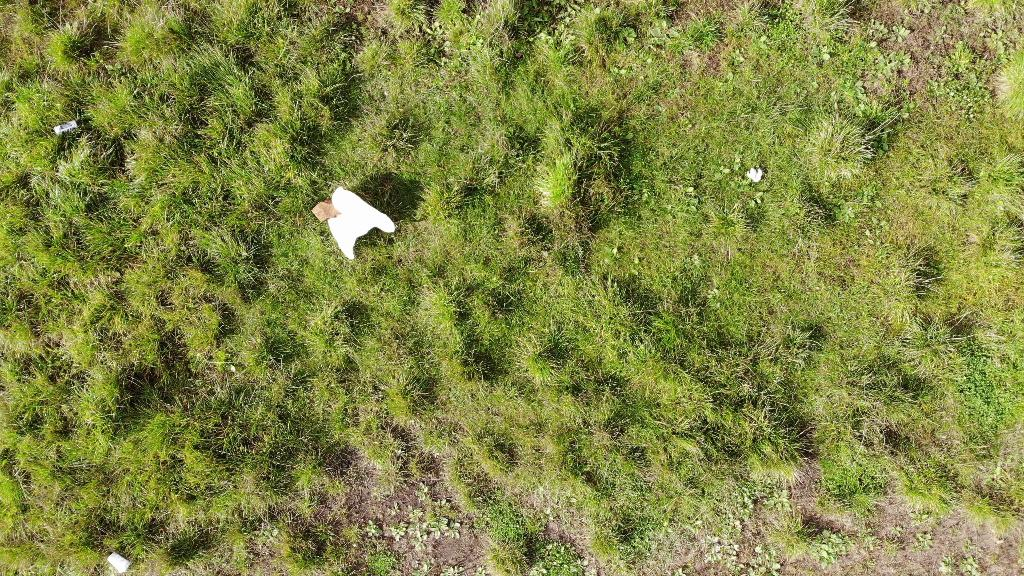garbage: (302, 185, 398, 263), (327, 186, 397, 258), (105, 553, 131, 576), (54, 119, 79, 134), (742, 168, 762, 181)
